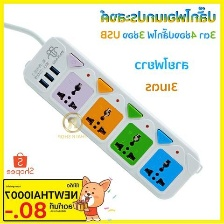three_eye_plug: (19, 31, 204, 202)
